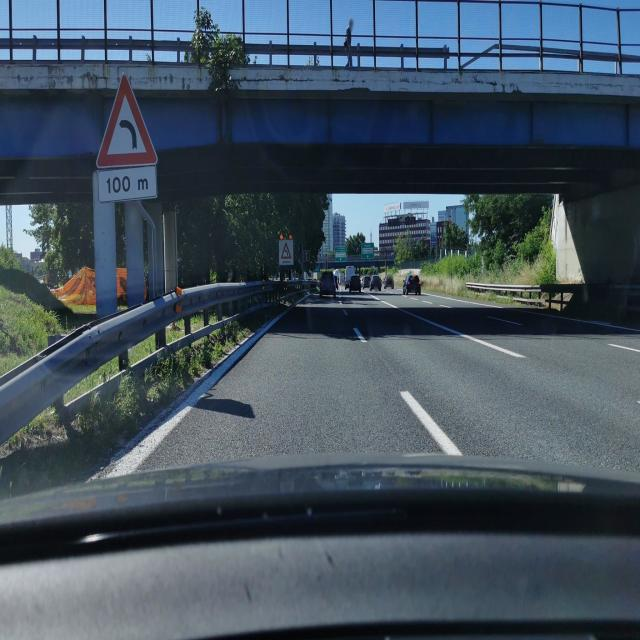car: (319, 269, 336, 299), (402, 273, 422, 295), (349, 273, 363, 294), (369, 274, 383, 292), (382, 275, 394, 291), (362, 274, 372, 290)
